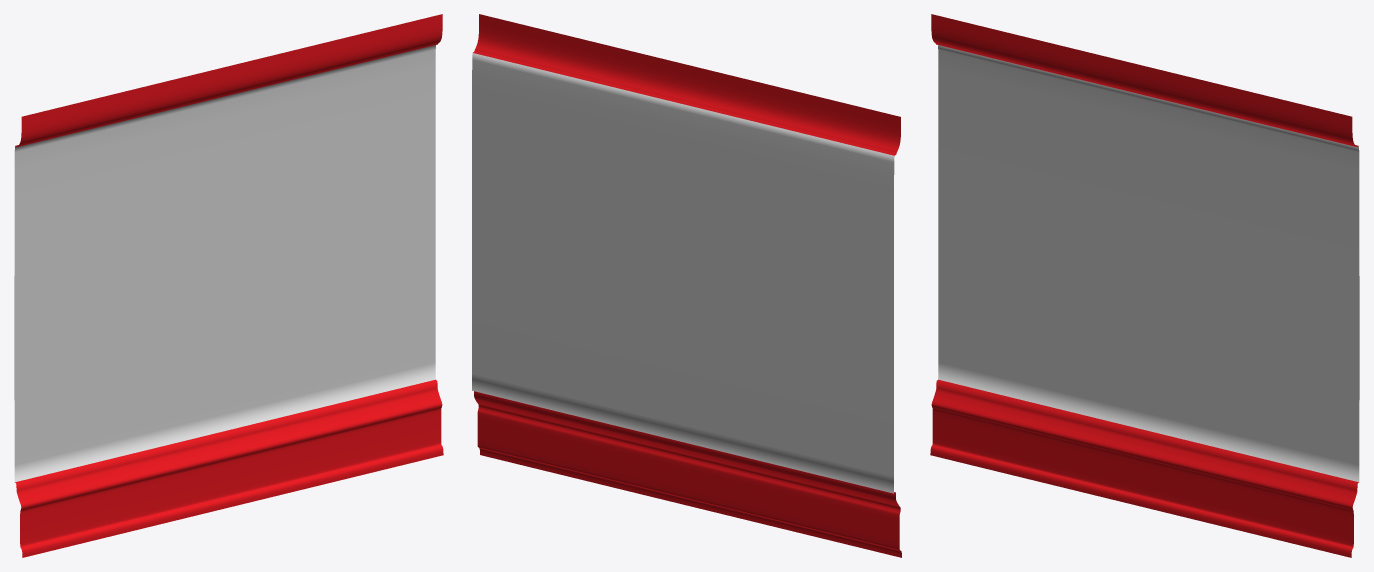
File: wall1.fbx
The picture shows the model from 3 angles, left to right: view 1: azimuth 30°, elevation 25°; view 2: azimuth 150°, elevation 25°; view 3: azimuth 330°, elevation 25°; orthographic projection.
Visible parts, largest first — view 1: Plane; view 2: Plane; view 3: Plane.
Boxes of the visible parts, <box> form: Plane: <box>14,14,443,557</box>; Plane: <box>472,14,901,557</box>; Plane: <box>930,14,1359,557</box>.
Size of the model in its own units: 200 by 6.54 by 200.
